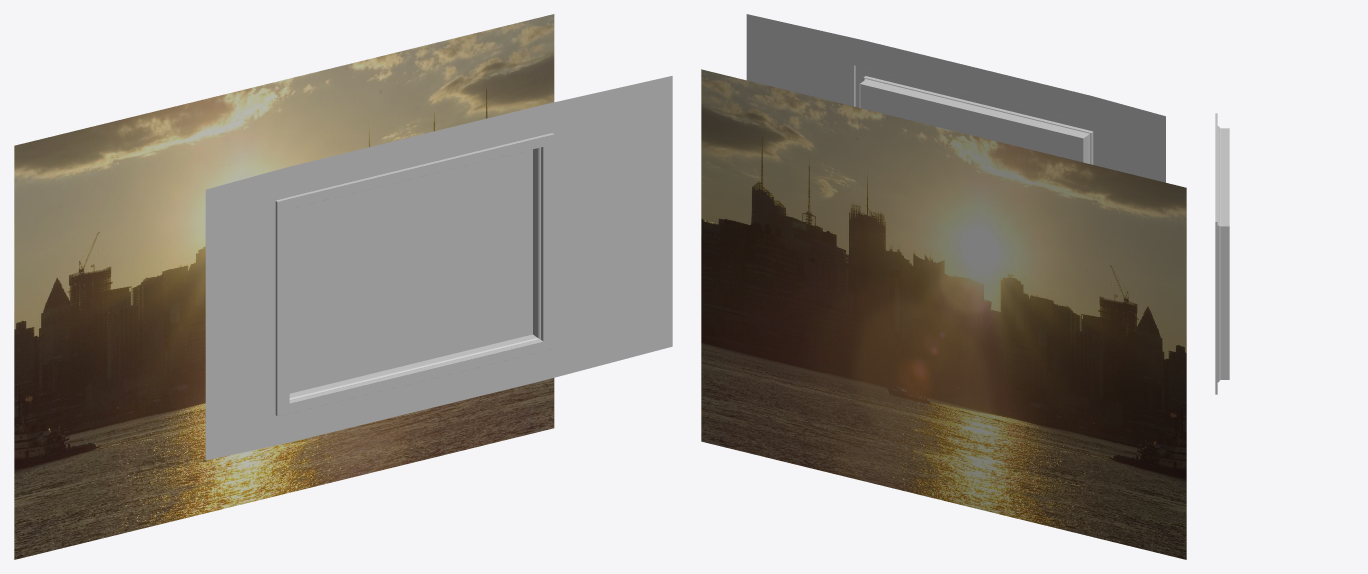
The model's file is starter_file.dae.
The picture shows the model from 3 angles, left to right: view 1: azimuth 30°, elevation 25°; view 2: azimuth 150°, elevation 25°; view 3: azimuth 270°, elevation 25°; orthographic projection. The views are drawn at different scales.
Visible parts, largest first — view 1: BkgndPlane, WallWithWindow, Glass; view 2: BkgndPlane, WallWithWindow, Glass; view 3: WallWithWindow.
Boxes of the visible parts, <box> form: BkgndPlane: <box>14,14,554,559</box>; WallWithWindow: <box>205,76,672,460</box>; Glass: <box>289,149,532,393</box>; BkgndPlane: <box>701,69,1186,559</box>; WallWithWindow: <box>746,14,1165,182</box>; Glass: <box>860,84,1083,162</box>; WallWithWindow: <box>1215,113,1229,394</box>.
Bounding box in the file's own units: 18.86 × 4.88 × 13.01.
3 materials, 1 textured.
